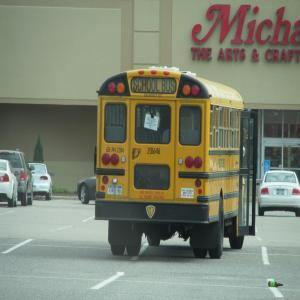Vehicle-registration-plate: (107, 185, 123, 197), (277, 190, 285, 195)
